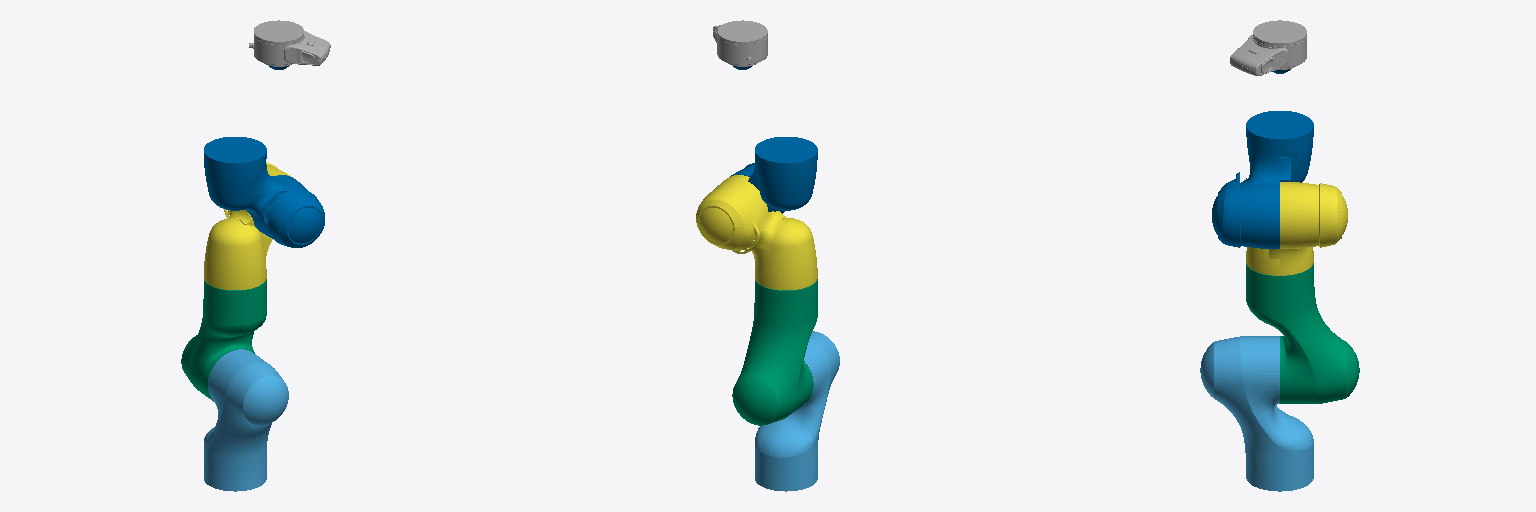
URDF robot description (panda):
<?xml version="1.0" ?>
<robot name="panda">
  <link name="panda_link0">
    <visual>
      <origin rpy="1.57079632679 0 0" xyz="0 0 0"/>
      <geometry>
        <mesh filename="../urdf/panda/meshes/link0.obj"/>
      </geometry>
    </visual>
    <inertial>
      <origin rpy="1.57079632679 0 0" xyz="0 0 0"/>
      <mass value="1." />
      <inertia ixx="0.3" iyy="0.3" izz="0.3" ixy="0.0" ixz="0.0" iyz="0.0" />
    </inertial>
  </link>
  <link name="panda_link1">
    <visual>
      <geometry>
        <mesh filename="../urdf/panda/meshes/link1.obj"/>
      </geometry>
    </visual>
    <inertial>
      <mass value="1." />
      <inertia ixx="0.3" iyy="0.3" izz="0.3" ixy="0.0" ixz="0.0" iyz="0.0" />
    </inertial>
  </link>
  <joint name="panda_joint1" type="revolute">
    <origin rpy="1.57079632679 0 0" xyz="0 0 0.333"/>
    <parent link="panda_link0"/>
    <child link="panda_link1"/>
    <axis xyz="0 1 0"/>
  </joint>
  <link name="panda_link2">
    <visual>
      <geometry>
        <mesh filename="../urdf/panda/meshes/link2.obj"/>
      </geometry>
    </visual>
    <inertial>
      <mass value="1." />
      <inertia ixx="0.3" iyy="0.3" izz="0.3" ixy="0.0" ixz="0.0" iyz="0.0" />
    </inertial>
  </link>
  <joint name="panda_joint2" type="revolute">
    <origin rpy="-1.57079632679 0 0" xyz="0 0 0"/>
    <parent link="panda_link1"/>
    <child link="panda_link2"/>
    <axis xyz="0 1 0"/>
  </joint>
  <link name="panda_link3">
    <visual>
      <geometry>
        <mesh filename="../urdf/panda/meshes/link3.obj"/>
      </geometry>
    </visual>
    <inertial>
      <mass value="1." />
      <inertia ixx="0.3" iyy="0.3" izz="0.3" ixy="0.0" ixz="0.0" iyz="0.0" />
    </inertial>
  </link>
  <joint name="panda_joint3" type="revolute">
    <origin rpy="1.57079632679 0 0" xyz="0 0 0.316"/>
    <parent link="panda_link2"/>
    <child link="panda_link3"/>
    <axis xyz="0 1 0"/>
  </joint>
  <link name="panda_link4">
    <visual>
      <geometry>
        <mesh filename="../urdf/panda/meshes/link4.obj"/>
      </geometry>
    </visual>
    <inertial>
      <mass value="1." />
      <inertia ixx="0.3" iyy="0.3" izz="0.3" ixy="0.0" ixz="0.0" iyz="0.0" />
    </inertial>
  </link>
  <joint name="panda_joint4" type="revolute">
    <origin rpy="1.57079632679 0 0" xyz="0.0825 0 0"/>
    <parent link="panda_link3"/>
    <child link="panda_link4"/>
    <axis xyz="0 1 0"/>
  </joint>
  <link name="panda_link5">
    <visual>
      <geometry>
        <mesh filename="../urdf/panda/meshes/link5.obj"/>
      </geometry>
    </visual>
    <inertial>
      <mass value="1." />
      <inertia ixx="0.3" iyy="0.3" izz="0.3" ixy="0.0" ixz="0.0" iyz="0.0" />
    </inertial>
  </link>
  <joint name="panda_joint5" type="revolute">
    <origin rpy="-1.57079632679 0 0" xyz="-0.0825 0 -0.384"/>
    <parent link="panda_link4"/>
    <child link="panda_link5"/>
    <axis xyz="0 1 0"/>
  </joint>
  <link name="panda_link6">
    <visual>
      <geometry>
        <mesh filename="../urdf/panda/meshes/link6.obj"/>
      </geometry>
    </visual>
    <inertial>
      <mass value="1." />
      <inertia ixx="0.3" iyy="0.3" izz="0.3" ixy="0.0" ixz="0.0" iyz="0.0" />
    </inertial>
  </link>
  <joint name="panda_joint6" type="revolute">
    <origin rpy="1.57079632679 0 0" xyz="0 0 0"/>
    <parent link="panda_link5"/>
    <child link="panda_link6"/>
    <axis xyz="0 1 0"/>
  </joint>
  <link name="panda_link7">
    <visual>
      <geometry>
        <mesh filename="../urdf/panda/meshes/link7.obj"/>
      </geometry>
    </visual>
    <inertial>
      <mass value="1." />
      <inertia ixx="0.3" iyy="0.3" izz="0.3" ixy="0.0" ixz="0.0" iyz="0.0" />
    </inertial>
  </link>
  <joint name="panda_joint7" type="revolute">
    <origin rpy="1.57079632679 0 0" xyz="0.088 0 0"/>
    <parent link="panda_link6"/>
    <child link="panda_link7"/>
    <axis xyz="0 1 0"/>
  </joint>
  <link name="panda_link8">
    <visual>
      <geometry>
        <sphere radius=".025"/>
      </geometry>
      <material name="blue">
        <color rgba="0 0.4 .6 1."/>
      </material>
    </visual>
    <inertial>
      <mass value="1." />
      <inertia ixx="0.3" iyy="0.3" izz="0.3" ixy="0.0" ixz="0.0" iyz="0.0" />
    </inertial>
  </link>
  <joint name="panda_joint8" type="fixed">
    <origin rpy="0 0 0" xyz="0 .1 0"/>
    <parent link="panda_link7"/>
    <child link="panda_link8"/>
  </joint>
</robot>

--- Facts derived from the render (not from the file) ---
Views: 3 orthographic renders of the robot side by side, from view 1: azimuth 30°, elevation 25°; view 2: azimuth 150°, elevation 25°; view 3: azimuth 270°, elevation 25°.
Model panda with 9 links and 8 joints (7 revolute, 1 fixed), rooted at panda_link0, posed every joint at zero.
Links seen in each view (by area): view 1: panda_link1, panda_link4, panda_link2, panda_link3, panda_link7; view 2: panda_link2, panda_link3, panda_link1, panda_link4, panda_link7; view 3: panda_link1, panda_link2, panda_link4, panda_link3, panda_link7.
Boxes of the visible links, x1=… form: panda_link1: x1=204, y1=349, x2=288, y2=491; panda_link4: x1=204, y1=137, x2=324, y2=247; panda_link2: x1=181, y1=279, x2=266, y2=401; panda_link3: x1=204, y1=162, x2=290, y2=289; panda_link7: x1=249, y1=20, x2=330, y2=66; panda_link2: x1=732, y1=279, x2=817, y2=425; panda_link3: x1=696, y1=175, x2=817, y2=289; panda_link1: x1=755, y1=331, x2=839, y2=491; panda_link4: x1=730, y1=137, x2=817, y2=213; panda_link7: x1=713, y1=20, x2=767, y2=66; panda_link1: x1=1200, y1=336, x2=1313, y2=491; panda_link2: x1=1246, y1=263, x2=1359, y2=403; panda_link4: x1=1212, y1=111, x2=1313, y2=248; panda_link3: x1=1246, y1=182, x2=1347, y2=275; panda_link7: x1=1230, y1=20, x2=1306, y2=75.
Bounding box of the posed robot: 0.2243 × 0.2588 × 0.84 m (x, y, z).
5 mesh visuals loaded from 8 distinct referenced files (5 OBJ); not drawn: 3 (reference not matched to a file when rendering).